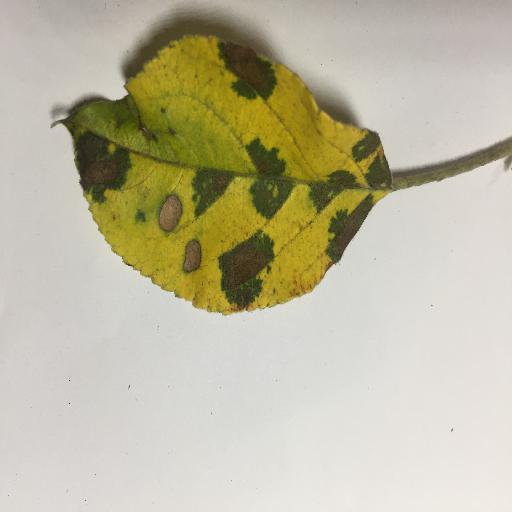Brown_Spot: (216, 41, 275, 96), (329, 201, 374, 256), (217, 243, 270, 286), (76, 150, 125, 193), (155, 192, 180, 234), (245, 148, 279, 173), (187, 243, 202, 275), (207, 175, 226, 190)
